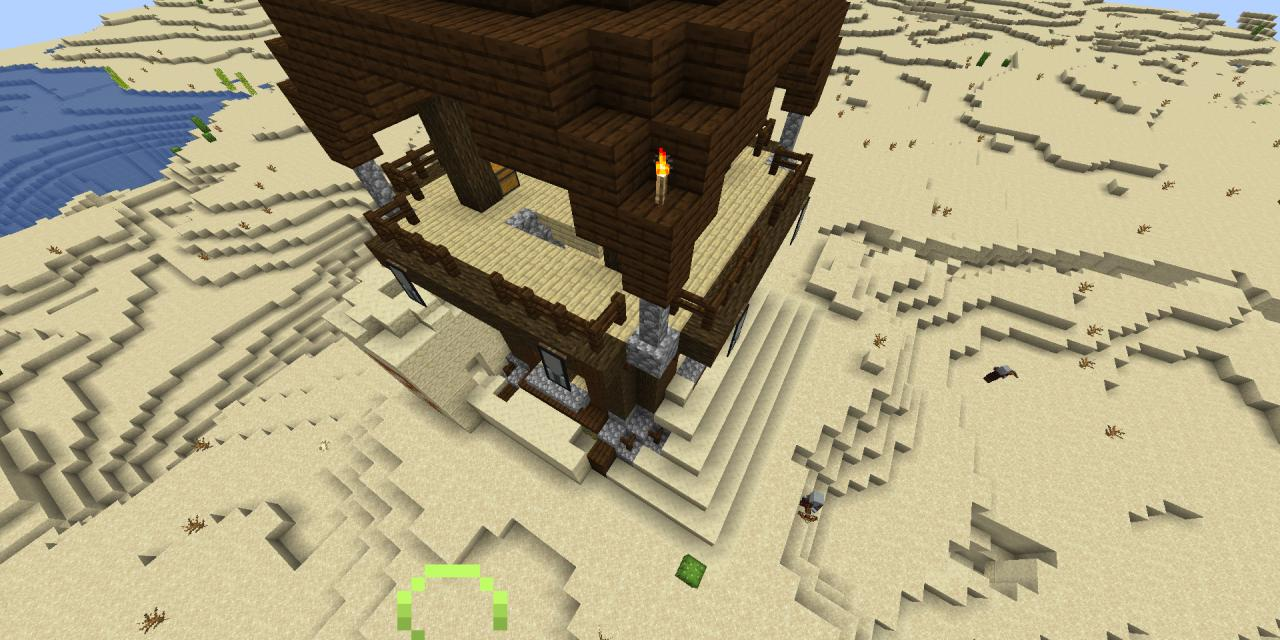desert temple: (306, 203, 844, 578)
pillager outpost: (244, 0, 862, 487)
